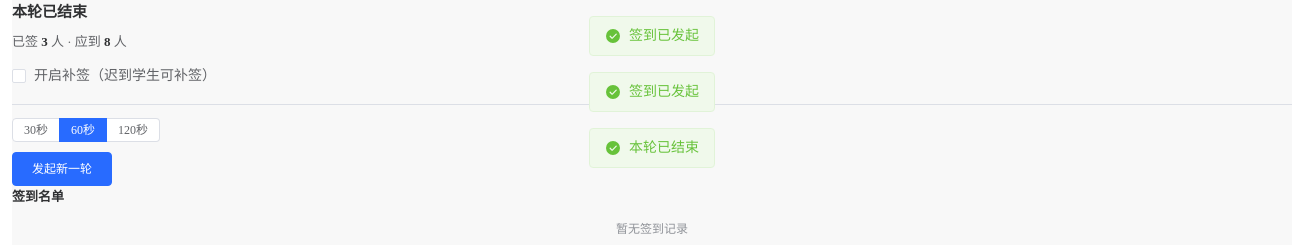
components/ClassRoom/CheckinPanel.vue › 已结束轮次可发起新一轮
Click the button "发起新一轮": [62, 169] box [12,152,112,186]
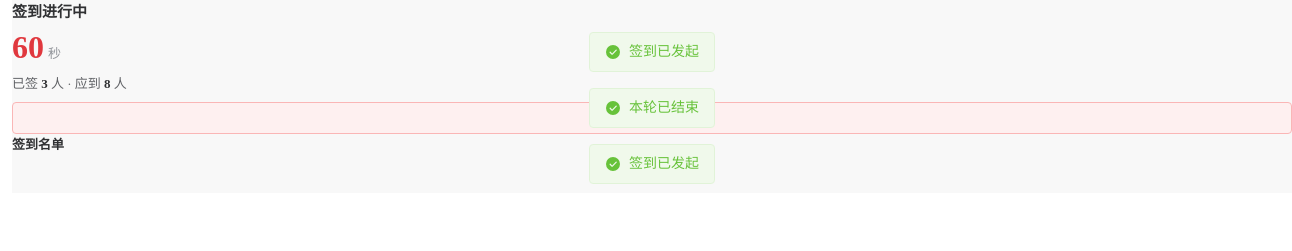
Result: the text "签到进行中" is shown at [12,4,87,20]
